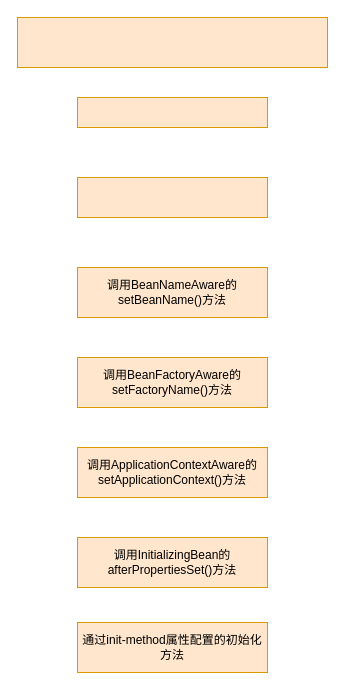
Some shapes in this 345 by 690 pixel diagram are drawn without their labels. The shapes that lost their labels are listed below. From the top down, each one's centre as x and y in pixels, then its label:
point 172,42: 调用BeanFactoryPostProcessor的postProcessBeanFactory()方法对工厂定义信息进行后处理
point 172,112: 实例化
point 172,197: 设置属性值
